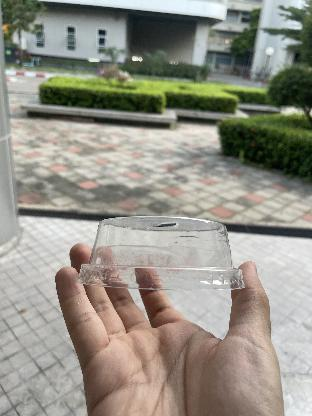Plastic Cup: (73, 214, 251, 300)
